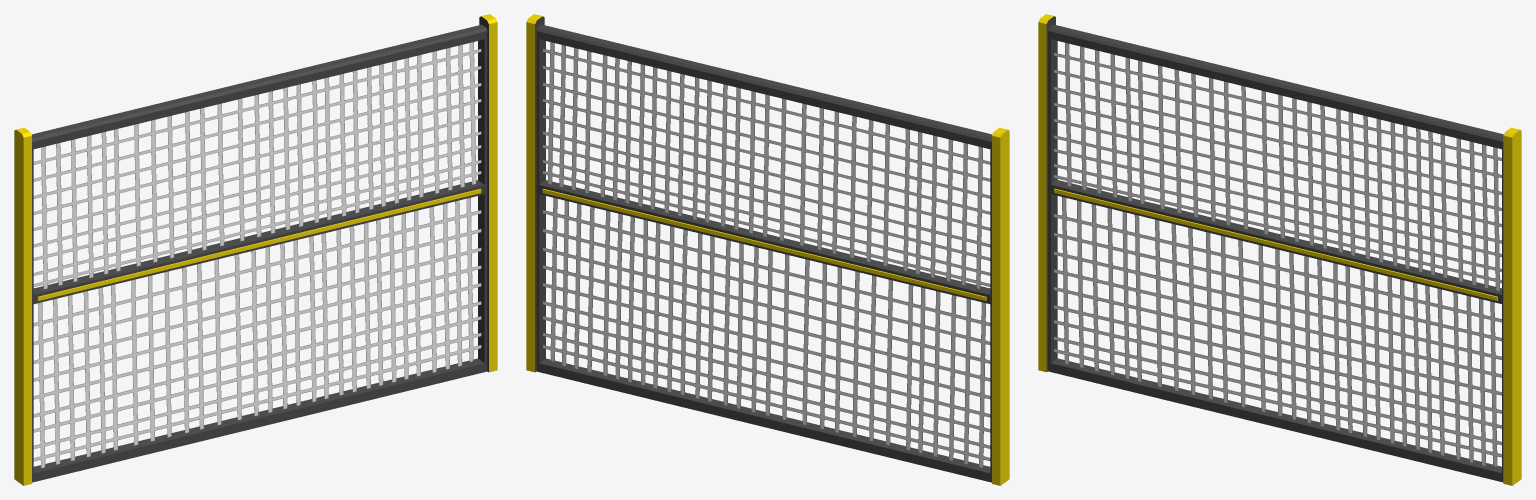
Rendered from Meshfencing.fbx.
The picture shows the model from 3 angles, left to right: view 1: azimuth 30°, elevation 25°; view 2: azimuth 150°, elevation 25°; view 3: azimuth 330°, elevation 25°; orthographic projection.
Parts seen in each view (by area): view 1: Cube; view 2: Cube; view 3: Cube.
Part boxes in pixels (x1,y1,x2,y2): Cube: (14,14,497,485); Cube: (526,14,1009,485); Cube: (1038,14,1521,485).
Bounding box in the file's own units: 721 × 509 × 24.75.
